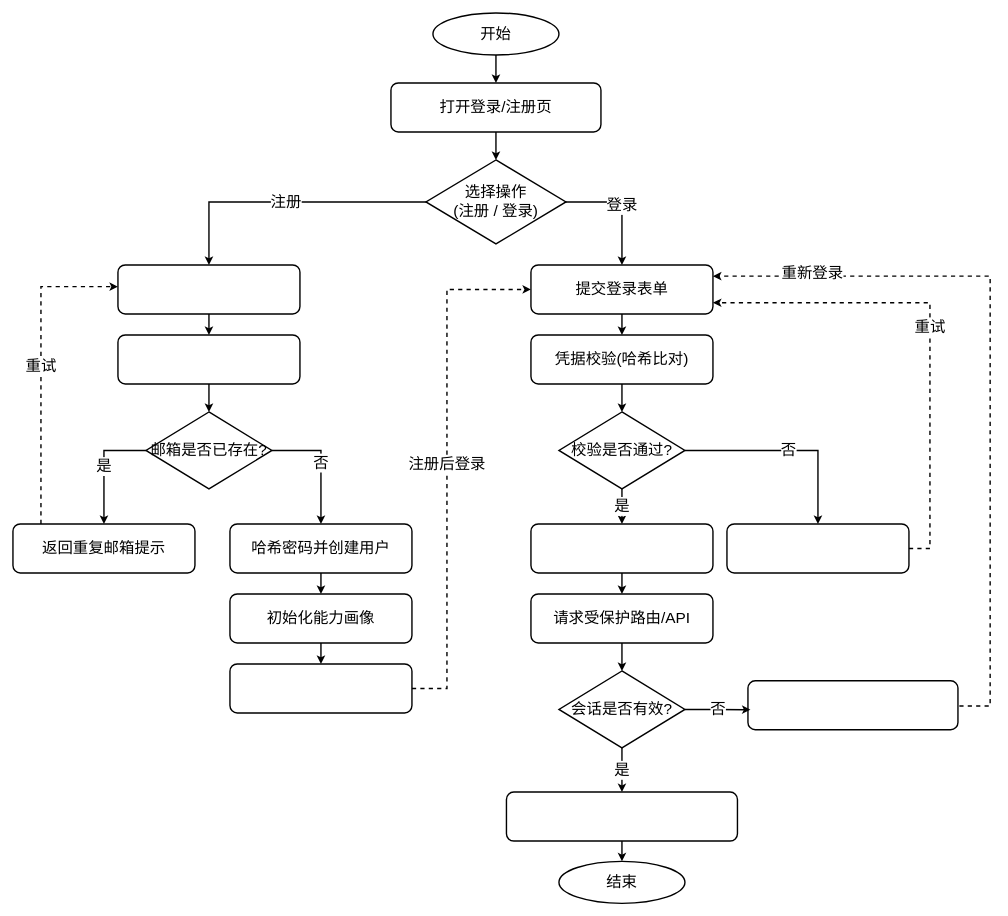
Some shapes in this 1008 by 916 pixel diagram are drawn without their labels. The centre of each missing label's shape, as x and y in pixels:
中间件重定向到登录页: the point at 852,705
创建会话: the point at 621,548
提交注册表单: the point at 208,289
放行并进入仪表盘/业务页: the point at 621,816
跳转到登录页: the point at 320,688
返回脱敏错误提示: the point at 817,548
邮箱唯一性校验: the point at 208,359
